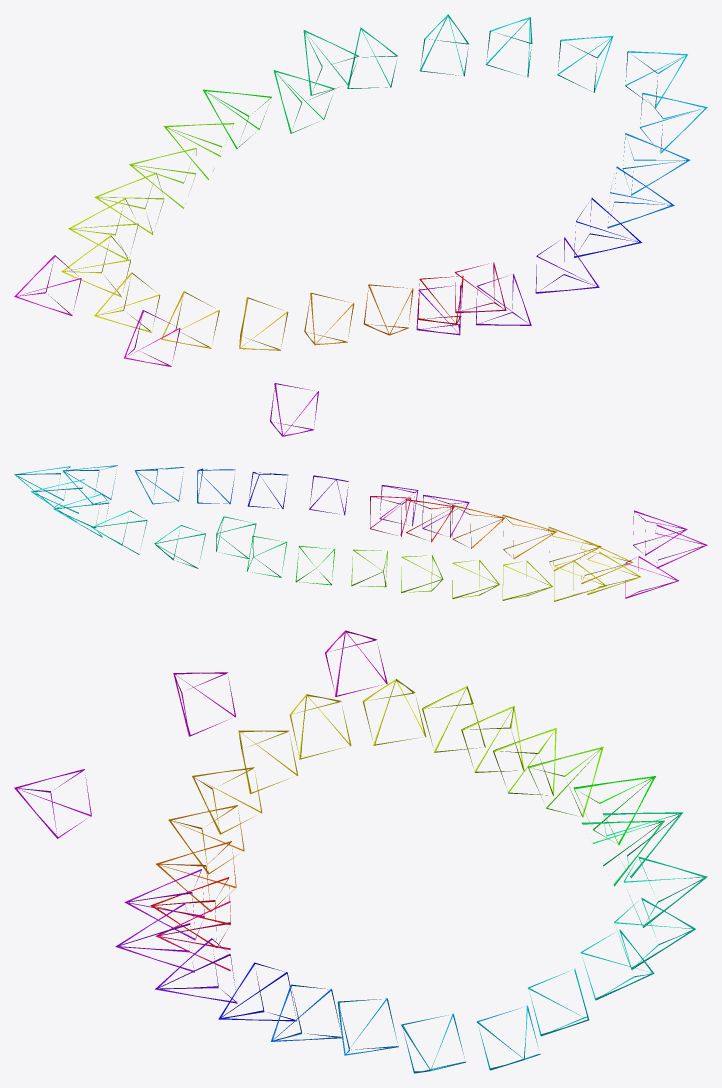
Rendered from vggt_pointcloud_ship.glb.
3 renders of one model, top to bottom at view 1: azimuth 30°, elevation 25°; view 2: azimuth 150°, elevation 25°; view 3: azimuth 270°, elevation 25°, orthographic. The views are drawn at different scales.
Visible parts, largest first — view 1: world; view 2: world; view 3: world.
Boxes of the visible parts, x1,y1,x2,y2 form: world: [14, 14, 707, 436]; world: [14, 465, 707, 601]; world: [14, 630, 707, 1073].
Bounding box in the file's own units: 1.96 × 0.3654 × 1.32.
